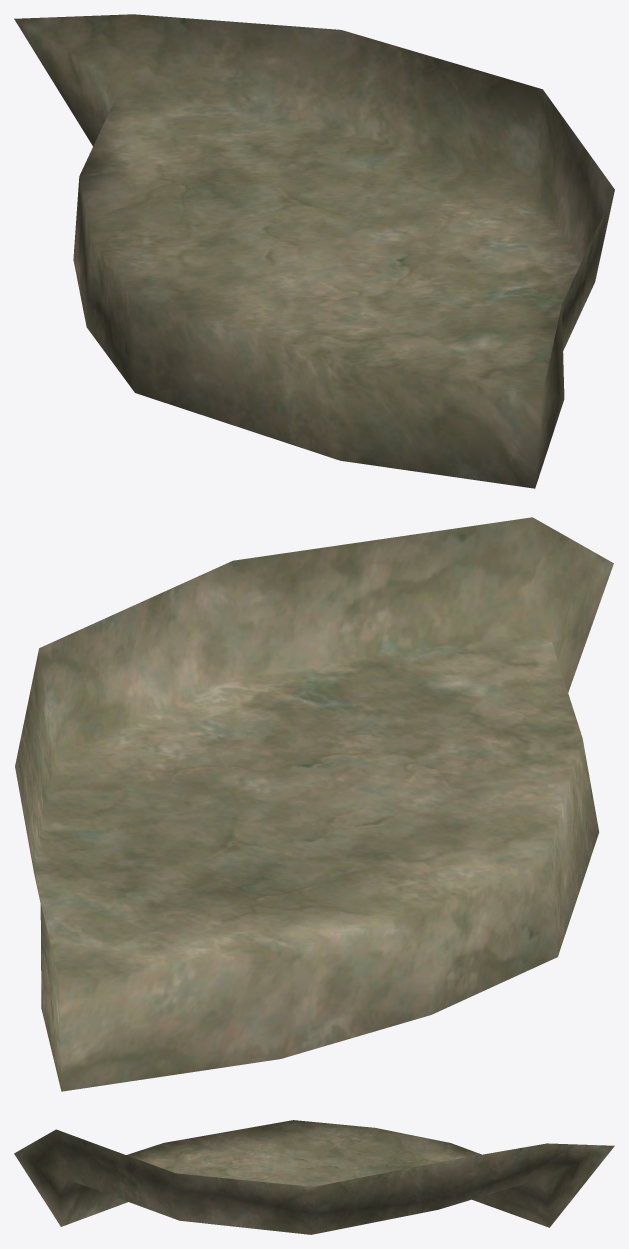
The model's file is EKH_CAVERNS_PS_CA_PLATFORM_9430.fbx.
The picture shows the model from 3 angles, top to bottom: view 1: azimuth 30°, elevation 25°; view 2: azimuth 150°, elevation 25°; view 3: azimuth 270°, elevation 25°; orthographic projection. The views are drawn at different scales.
Parts seen in each view (by area): view 1: EKH_CAVERNS_PS_CA_PLATFORM_9430; view 2: EKH_CAVERNS_PS_CA_PLATFORM_9430; view 3: EKH_CAVERNS_PS_CA_PLATFORM_9430.
Part boxes in pixels (bbox=[...]): EKH_CAVERNS_PS_CA_PLATFORM_9430: bbox=[14, 14, 614, 488]; EKH_CAVERNS_PS_CA_PLATFORM_9430: bbox=[15, 517, 613, 1091]; EKH_CAVERNS_PS_CA_PLATFORM_9430: bbox=[14, 1120, 614, 1234].
Size of the model in its own units: 24802 by 10000 by 52416.
1 material, 1 textured.
